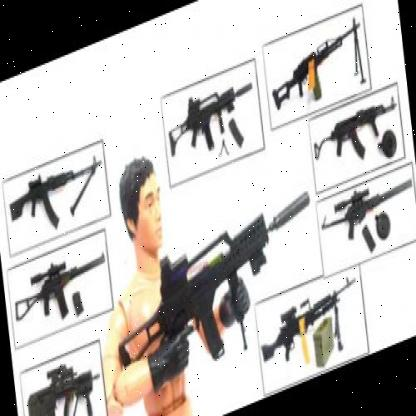rifle: (110, 186, 322, 374), (5, 150, 110, 250), (258, 270, 363, 370), (9, 234, 110, 330), (166, 68, 257, 154), (267, 32, 355, 112), (23, 346, 104, 416), (326, 89, 400, 159)
